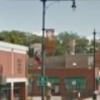chimneys: (68, 39, 76, 56)
